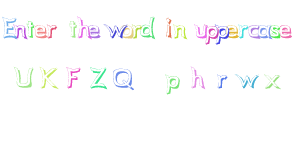E: (1, 14, 17, 41)
F: (64, 65, 83, 93)
K: (38, 67, 62, 92)
Q: (112, 66, 139, 93)
U: (10, 59, 36, 91)
Z: (87, 64, 110, 92)
a: (259, 22, 270, 41)
c: (249, 22, 259, 41)
d: (140, 12, 157, 40)
e: (34, 20, 48, 41), (280, 22, 294, 41), (89, 23, 101, 41), (228, 22, 238, 41)
h: (189, 63, 208, 90), (76, 14, 89, 39)
i: (162, 16, 174, 40)
n: (172, 19, 187, 41), (14, 21, 28, 42)
o: (122, 23, 134, 40)
p: (165, 71, 182, 97), (217, 24, 229, 49), (206, 25, 218, 48)
r: (214, 70, 230, 94), (46, 23, 60, 39), (238, 20, 248, 42), (131, 20, 141, 40)
s: (270, 23, 281, 40)
t: (26, 14, 36, 41), (67, 19, 77, 40)
u: (192, 20, 207, 39)
w: (234, 70, 260, 92), (262, 69, 285, 91), (103, 21, 122, 39)
